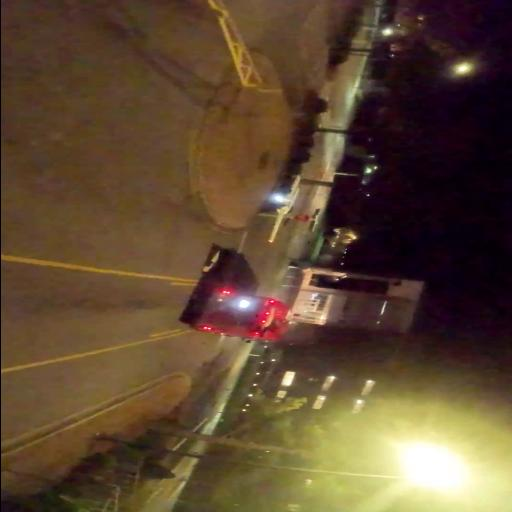uav: (256, 174, 302, 244)
